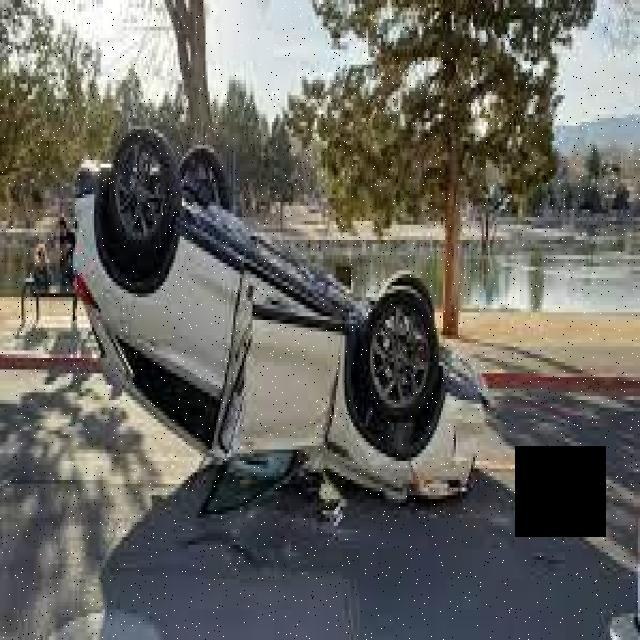severe: (69, 114, 492, 526)
